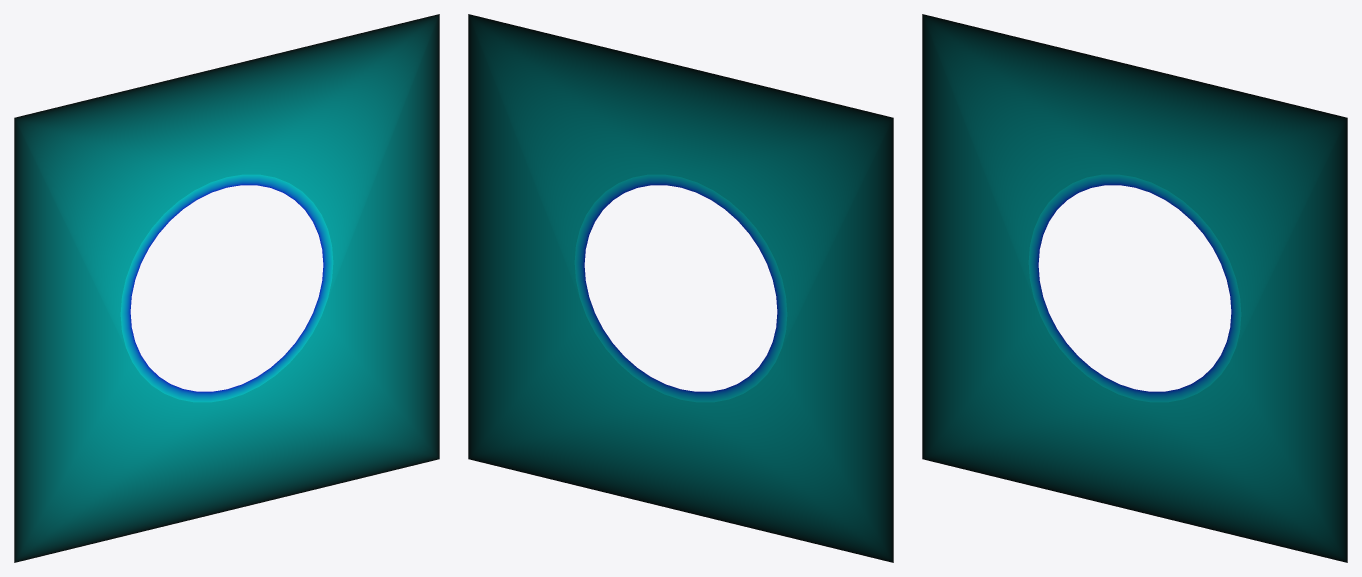
The model's file is SM_OutFadePlane.fbx.
3 views of the same model, side by side, from view 1: azimuth 30°, elevation 25°; view 2: azimuth 150°, elevation 25°; view 3: azimuth 330°, elevation 25° (orthographic).
Parts seen in each view (by area): view 1: OutFadePlane; view 2: OutFadePlane; view 3: OutFadePlane.
Boxes of the visible parts, <box> form: OutFadePlane: <box>14,14,439,562</box>; OutFadePlane: <box>468,14,893,562</box>; OutFadePlane: <box>922,14,1347,562</box>.
Size of the model in its own units: 100 by 100 by 0.
